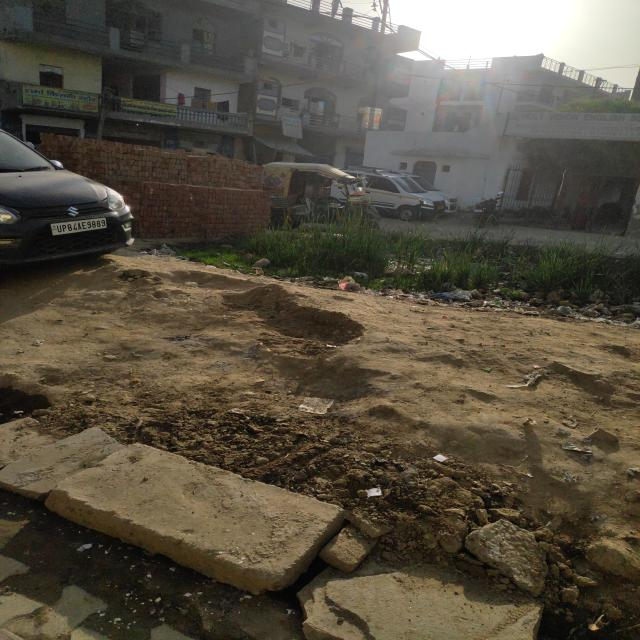Number_Plate_Detected: (49, 215, 107, 236), (474, 208, 484, 213)
